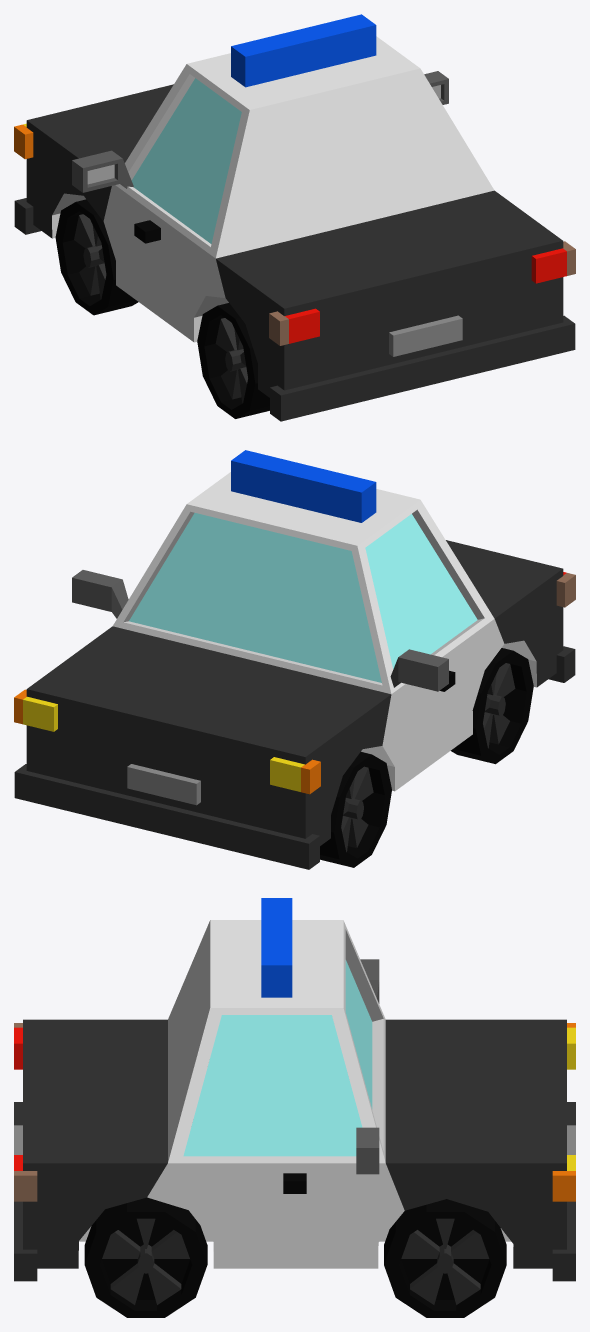
Rendered from ObsticleCar_4.fbx.
3 views of the same model, one above another, from view 1: azimuth 30°, elevation 25°; view 2: azimuth 150°, elevation 25°; view 3: azimuth 270°, elevation 25° (orthographic). The views are drawn at different scales.
Visible parts, largest first — view 1: Cube.002; view 2: Cube.002; view 3: Cube.002.
Boxes of the visible parts, x1,y1,x2,y2 form: Cube.002: (14,14,575,421); Cube.002: (14,450,575,869); Cube.002: (14,898,575,1317).
Bounding box in the file's own units: 328 × 255 × 413.
Materials: 1 (1 with a texture image).
